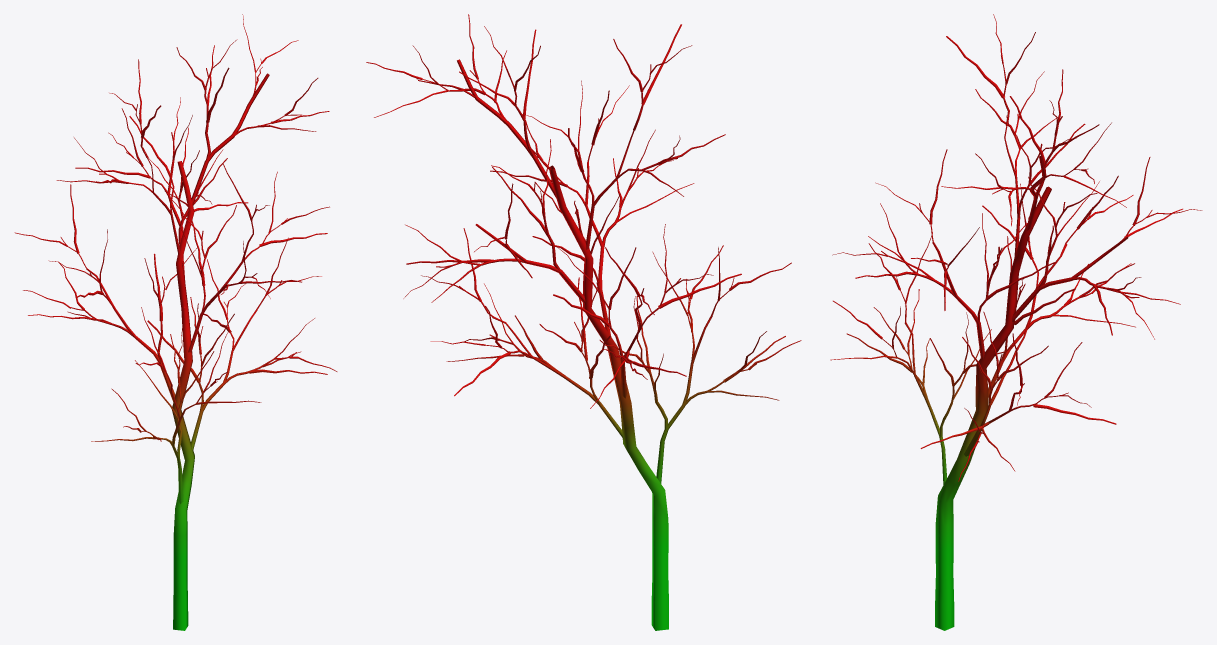
File: Rose Hip_LOD2_Var9.fbx
3 views of the same model, side by side, from view 1: azimuth 30°, elevation 25°; view 2: azimuth 150°, elevation 25°; view 3: azimuth 270°, elevation 25° (orthographic). The views are drawn at different scales.
Parts seen in each view (by area): view 1: _ktzl_Var9_LOD2; view 2: _ktzl_Var9_LOD2; view 3: _ktzl_Var9_LOD2.
Boxes of the visible parts, box(x1,y1,x2,y2) form: _ktzl_Var9_LOD2: box(14, 14, 337, 630); _ktzl_Var9_LOD2: box(366, 14, 801, 630); _ktzl_Var9_LOD2: box(830, 14, 1202, 630).
Size of the model in its own units: 61.35 by 112 by 63.59.
